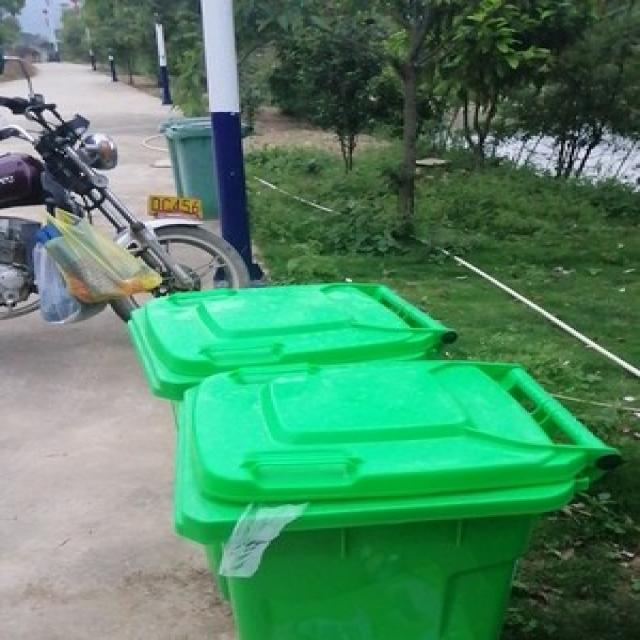ash bin: (166, 357, 625, 630), (126, 280, 456, 397), (164, 118, 252, 214)
motorbike: (0, 51, 247, 328)
pole: (194, 11, 256, 267)
